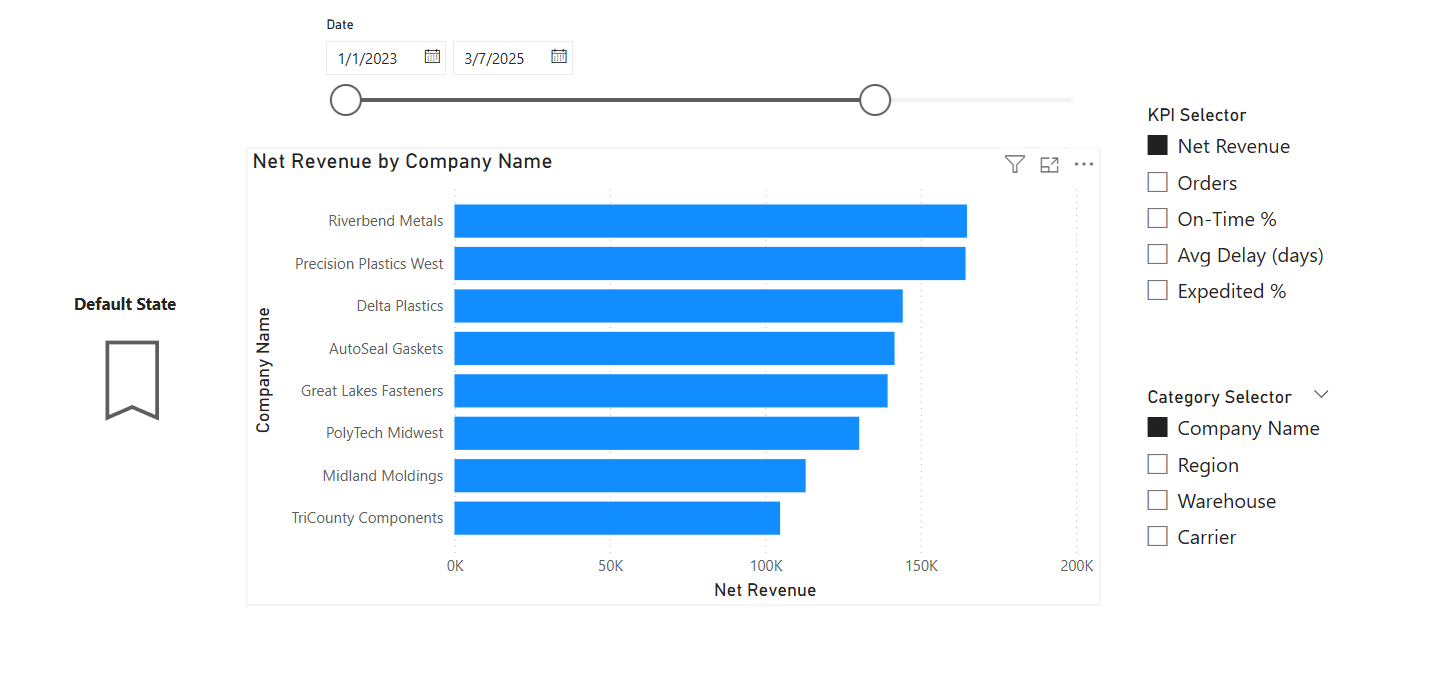

Layout of this report page (visuals, bound fields, positions):
{"tool":"powerbi","page":{"name":"sharable_bookmarks","canvas":[1280,720],"ordinal":3},"visuals":[{"type":"slicer","fields":{"Values":["Date.Date"]},"box":[324.1,84.4,632.2,139.4],"z":0},{"type":"slicer","fields":{"Values":["Breakdown Selector.Breakdown Selector"]},"box":[980.7,380.3,171.2,160.2],"z":1000},{"type":"barChart","fields":{"Category":["orders.company_name"],"Y":["orders.net revenue"]},"box":[272.7,194.4,683.6,366.8],"z":2000},{"type":"actionButton","box":[142.1,338.5,79.5,84.4],"z":3000},{"type":"textbox","box":[129.9,305.5,101.5,33],"z":4000},{"type":"slicer","fields":{"Values":["Metric Selector.Metric Selector"]},"box":[980.7,154.1,171.2,207.9],"z":5000}]}

Visuals, with their boxes on the page's 1280x720 design canvas (x1, y1, x2, y2). These are canvas units, not pixel positions in the 1448x677 screenshot, which may show the page scaled, cropped or inside an application window:
slicer - Date.Date: crop(324, 84, 956, 224)
slicer - Breakdown Selector.Breakdown Selector: crop(981, 380, 1152, 540)
barChart - orders.company_name x orders.net revenue: crop(273, 194, 956, 561)
actionButton: crop(142, 338, 222, 423)
textbox: crop(130, 306, 231, 338)
slicer - Metric Selector.Metric Selector: crop(981, 154, 1152, 362)
